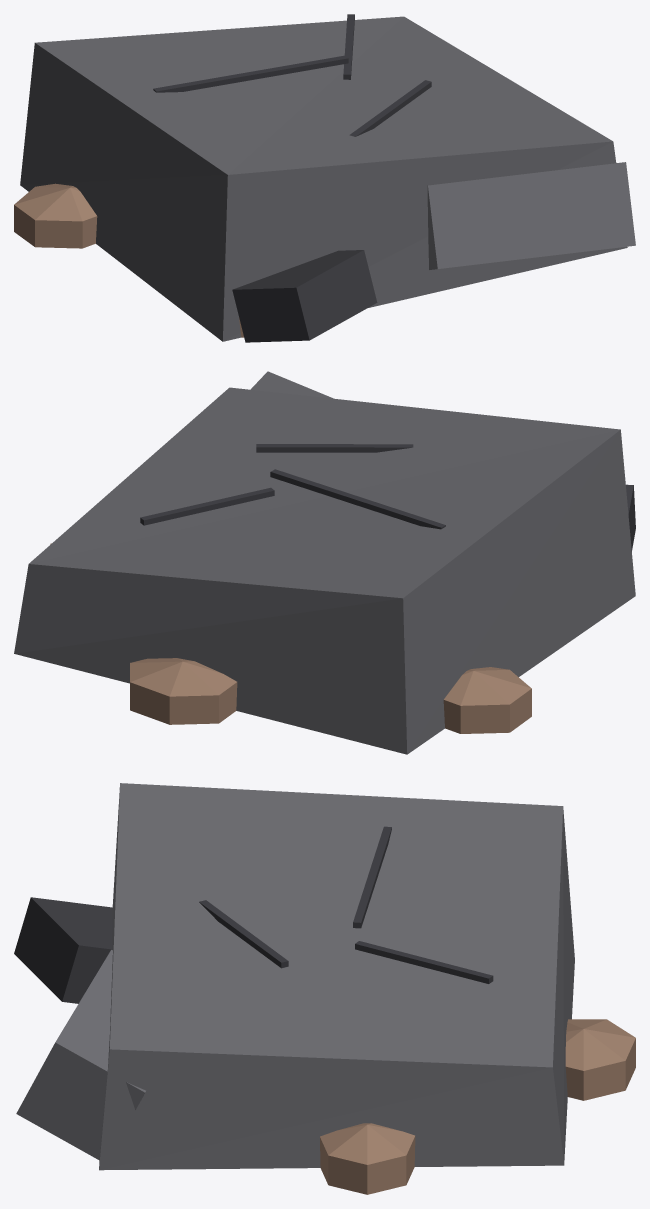
The model's file is void_monolith_a.obj.
3 views of the same model, one above another, from view 1: azimuth 30°, elevation 25°; view 2: azimuth 150°, elevation 25°; view 3: azimuth 270°, elevation 25° (orthographic). The views are drawn at different scales.
Visible parts, largest first — view 1: void_monolith_a_0, void_monolith_a_4, void_monolith_a_5, void_monolith_a_6, void_monolith_a_1, void_monolith_a_3, void_monolith_a_2; view 2: void_monolith_a_0, void_monolith_a_8, void_monolith_a_6, void_monolith_a_1, void_monolith_a_3, void_monolith_a_2, void_monolith_a_4; view 3: void_monolith_a_0, void_monolith_a_4, void_monolith_a_5, void_monolith_a_7, void_monolith_a_8, void_monolith_a_2, void_monolith_a_3, void_monolith_a_1.
Part boxes in pixels (x1,y1,x2,y2): void_monolith_a_0: (20, 16, 627, 341); void_monolith_a_4: (427, 162, 635, 269); void_monolith_a_5: (232, 250, 377, 342); void_monolith_a_6: (14, 183, 97, 248); void_monolith_a_1: (153, 55, 348, 92); void_monolith_a_3: (349, 80, 431, 136); void_monolith_a_2: (343, 14, 354, 79); void_monolith_a_0: (14, 387, 635, 754); void_monolith_a_8: (130, 658, 237, 724); void_monolith_a_6: (443, 667, 531, 733); void_monolith_a_1: (270, 469, 445, 529); void_monolith_a_3: (256, 444, 413, 452); void_monolith_a_2: (140, 487, 274, 525); void_monolith_a_4: (251, 371, 333, 398); void_monolith_a_0: (99, 783, 574, 1170); void_monolith_a_4: (16, 950, 145, 1160); void_monolith_a_5: (14, 897, 112, 1003); void_monolith_a_7: (320, 1123, 415, 1194); void_monolith_a_8: (565, 1019, 635, 1100); void_monolith_a_2: (355, 941, 493, 983); void_monolith_a_3: (199, 900, 288, 968); void_monolith_a_1: (353, 826, 391, 928).
Bounding box in the file's own units: 3.02 × 0.95 × 3.02.
